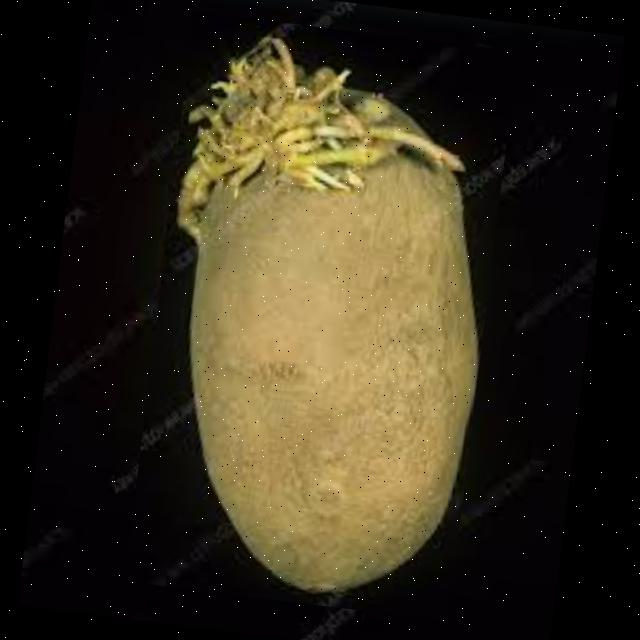Sprouted potato: (122, 11, 516, 620)
